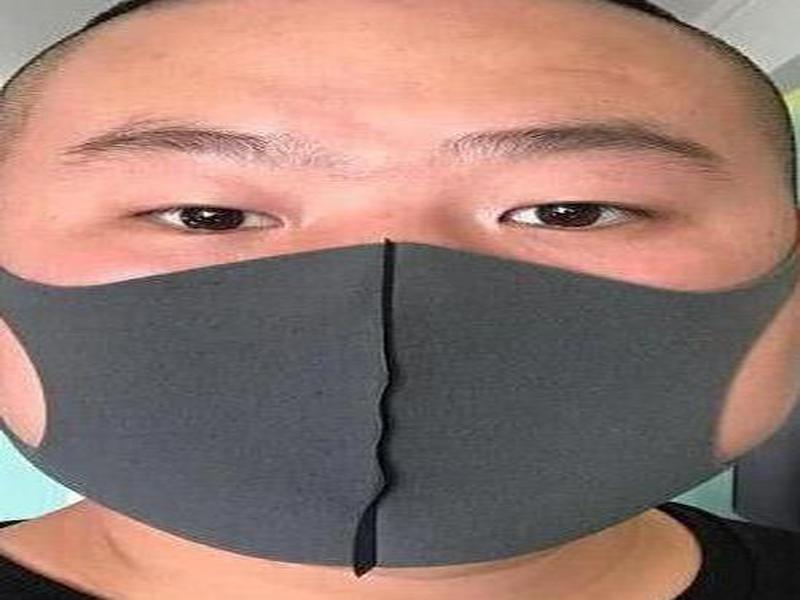with_mask: (1, 1, 797, 577)
